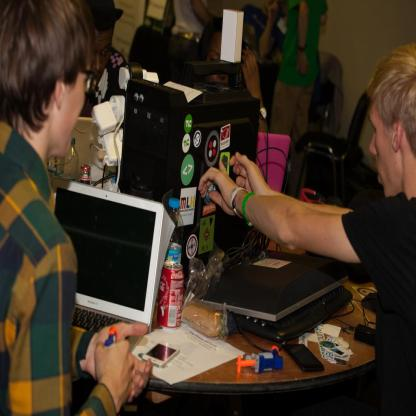board: (54, 185, 168, 372), (158, 260, 182, 328), (165, 196, 184, 265), (63, 137, 78, 182), (78, 164, 92, 184)
